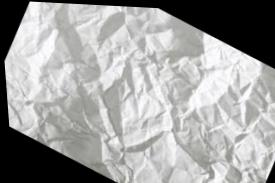paper: (1, 0, 274, 182)
